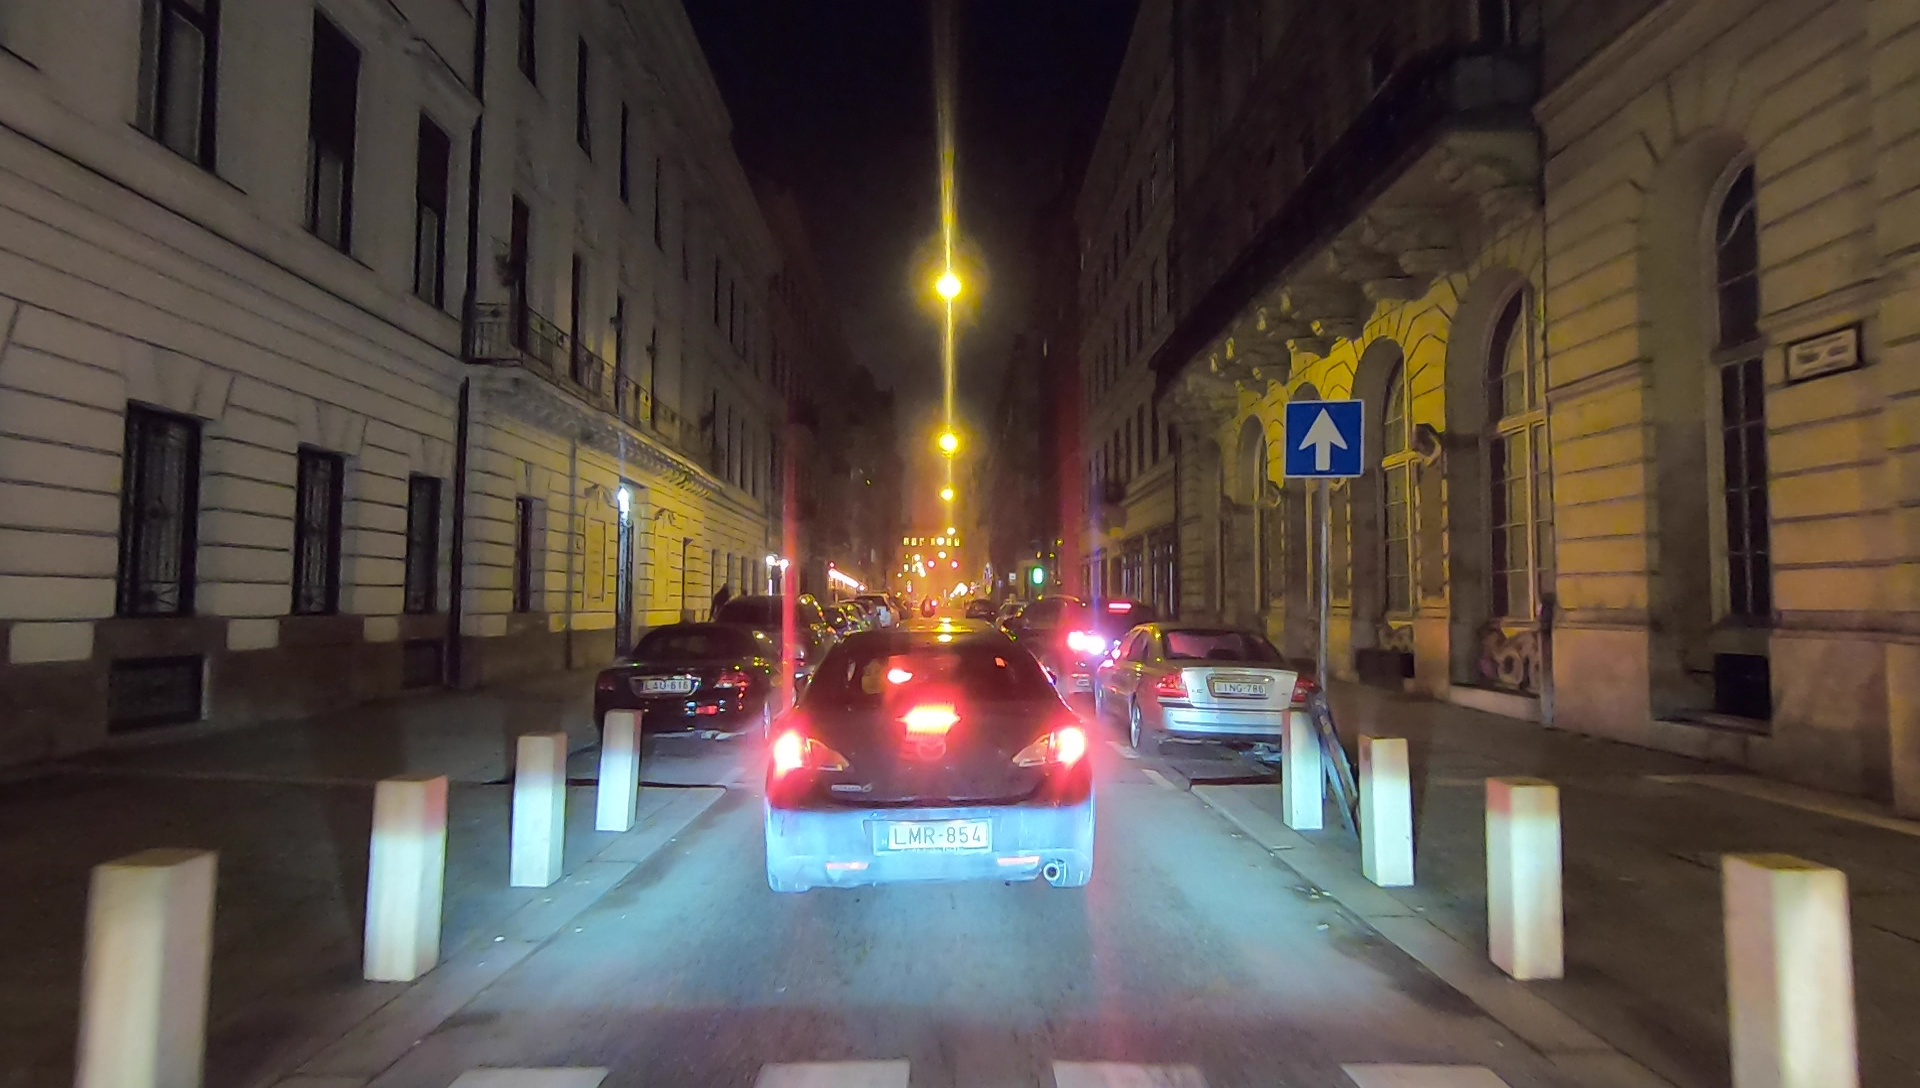person: (710, 580, 728, 624)
